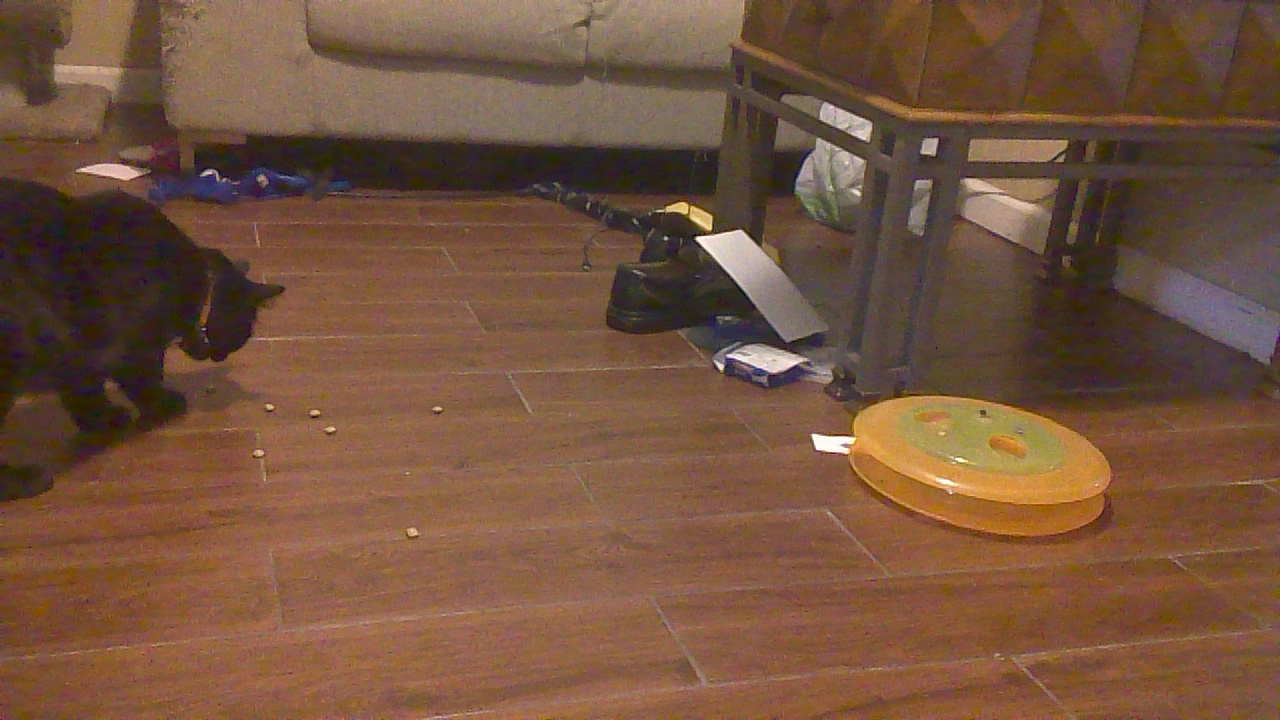cat: (1, 172, 299, 484)
